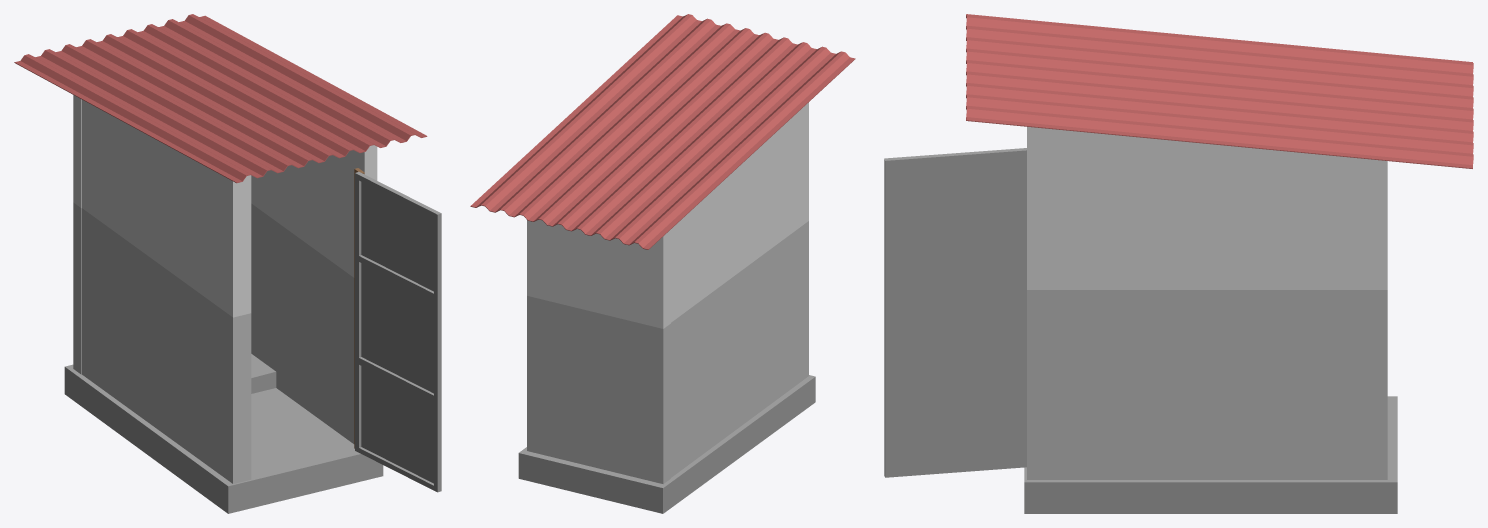
Rendered from Toilet01.fbx.
3 renders of one model, left to right at view 1: azimuth 30°, elevation 25°; view 2: azimuth 150°, elevation 25°; view 3: azimuth 270°, elevation 25°, orthographic. The views are drawn at different scales.
Visible parts, largest first — view 1: Toilet:pasted__W3, Toilet:pasted__T_Roof, Toilet:pasted__W2, Toilet:pasted__T_Door1, Toilet:pasted__T_Floor, Toilet:pasted__W1; view 2: Toilet:pasted__T_Roof, Toilet:pasted__W3, Toilet:pasted__W1, Toilet:pasted__T_Floor, Toilet:pasted__W2; view 3: Toilet:pasted__W2, Toilet:pasted__T_Roof, Toilet:pasted__T_Door1, Toilet:pasted__T_Floor.
Part boxes in pixels (box(x1,y1,x2,y2)): Toilet:pasted__W3: box(82, 99, 251, 483); Toilet:pasted__T_Roof: box(14, 14, 427, 183); Toilet:pasted__W2: box(251, 145, 377, 443); Toilet:pasted__T_Door1: box(355, 171, 441, 492); Toilet:pasted__T_Floor: box(64, 354, 383, 513); Toilet:pasted__W1: box(73, 95, 81, 374); Toilet:pasted__T_Roof: box(470, 14, 855, 249); Toilet:pasted__W3: box(649, 102, 808, 483); Toilet:pasted__W1: box(537, 219, 670, 483); Toilet:pasted__T_Floor: box(518, 375, 815, 513); Toilet:pasted__W2: box(527, 220, 539, 453); Toilet:pasted__W2: box(1027, 127, 1387, 479); Toilet:pasted__T_Roof: box(966, 14, 1473, 168); Toilet:pasted__T_Door1: box(884, 148, 1026, 477); Toilet:pasted__T_Floor: box(1024, 396, 1397, 513).
Size of the model in its own units: 15.6 by 28 by 36.58.
